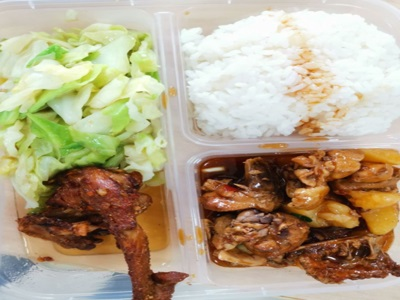cct: (10, 34, 161, 168)
jt: (28, 177, 171, 289)
rice: (187, 10, 393, 132)
